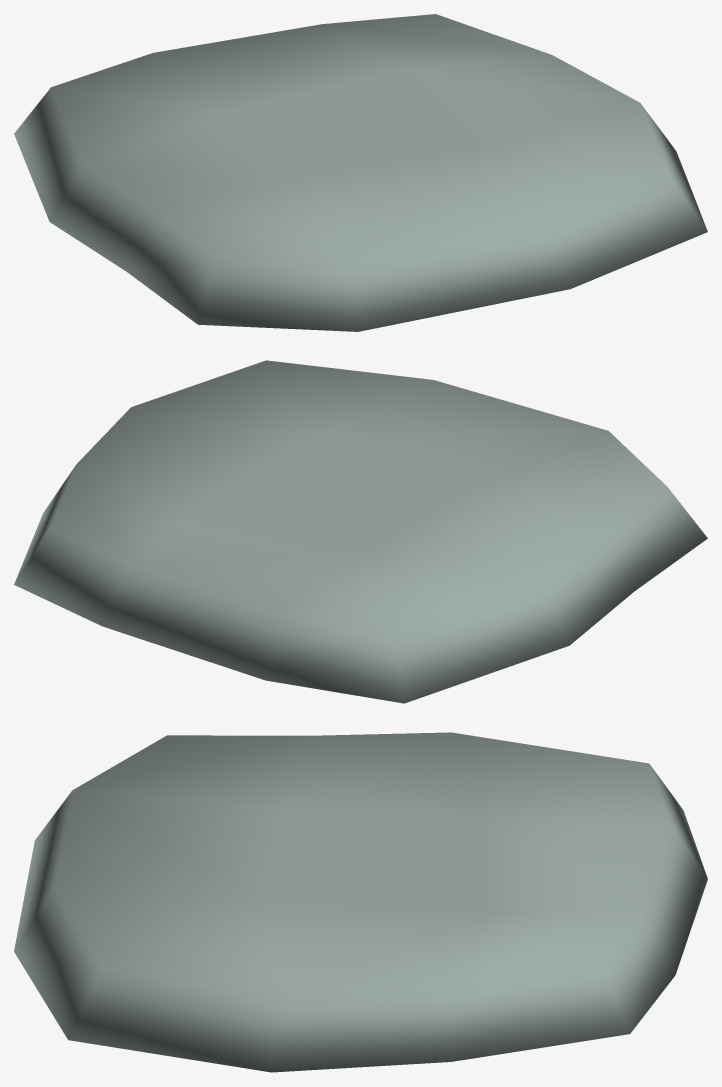
The model's file is desert path2.fbx.
The picture shows the model from 3 angles, top to bottom: view 1: azimuth 30°, elevation 25°; view 2: azimuth 150°, elevation 25°; view 3: azimuth 270°, elevation 25°; orthographic projection. The views are drawn at different scales.
Visible parts, largest first — view 1: desert path2; view 2: desert path2; view 3: desert path2.
Part boxes in pixels (x1=…): desert path2: x1=14, y1=14, x2=707, y2=331; desert path2: x1=14, y1=360, x2=707, y2=703; desert path2: x1=14, y1=732, x2=707, y2=1072.
Bounding box in the file's own units: 90.13 × 8.32 × 88.96.
